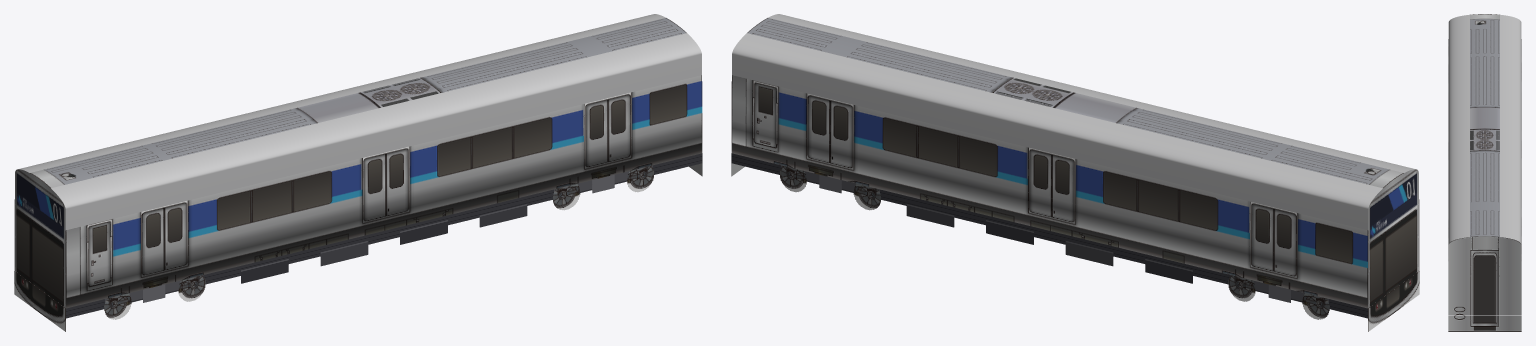
The model's file is car1.glb.
3 views of the same model, side by side, from view 1: azimuth 30°, elevation 25°; view 2: azimuth 150°, elevation 25°; view 3: azimuth 270°, elevation 25° (orthographic). The views are drawn at different scales.
Parts seen in each view (by area): view 1: aonami-1000-car1; view 2: aonami-1000-car1; view 3: aonami-1000-car1.
Part boxes in pixels (x1,y1,x2,y2): aonami-1000-car1: (14,14,702,331); aonami-1000-car1: (731,14,1419,331); aonami-1000-car1: (1448,14,1521,331).
Size of the model in its own units: 20.03 by 4.01 by 2.8.
6 materials, 5 textured.
